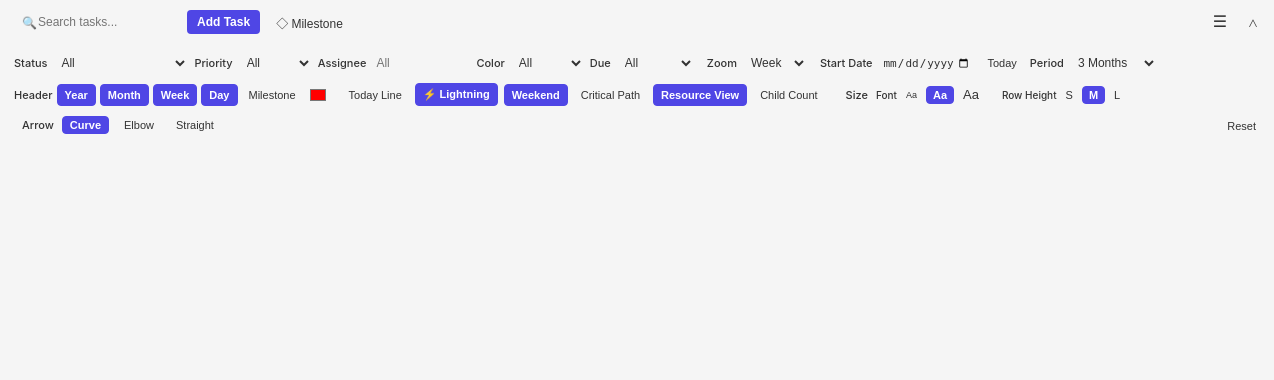
Test: Toolbar i18n（locale="en"） › ハンバーガーメニューの項目が英語表示される
Click the button titled "Menu". click: (1220, 22)
box: [1204,9,1236,35]
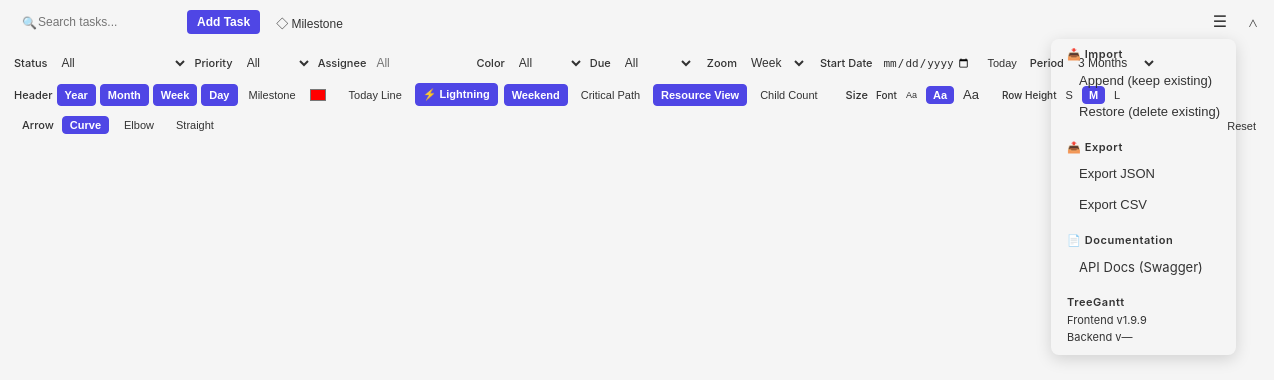
Check: the button "Append (keep existing)" is shown, box [1051,65,1236,96]
Check: the button "Restore (delete existing)" is shown, box [1051,96,1236,127]
Check: the button "Export JSON" is shown, box [1051,158,1236,189]
